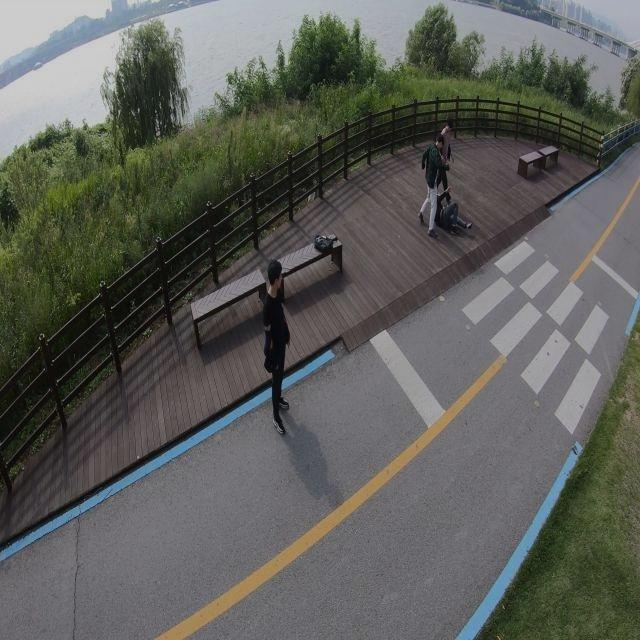fight: (417, 123, 476, 242)
non-fight: (260, 258, 292, 435)
